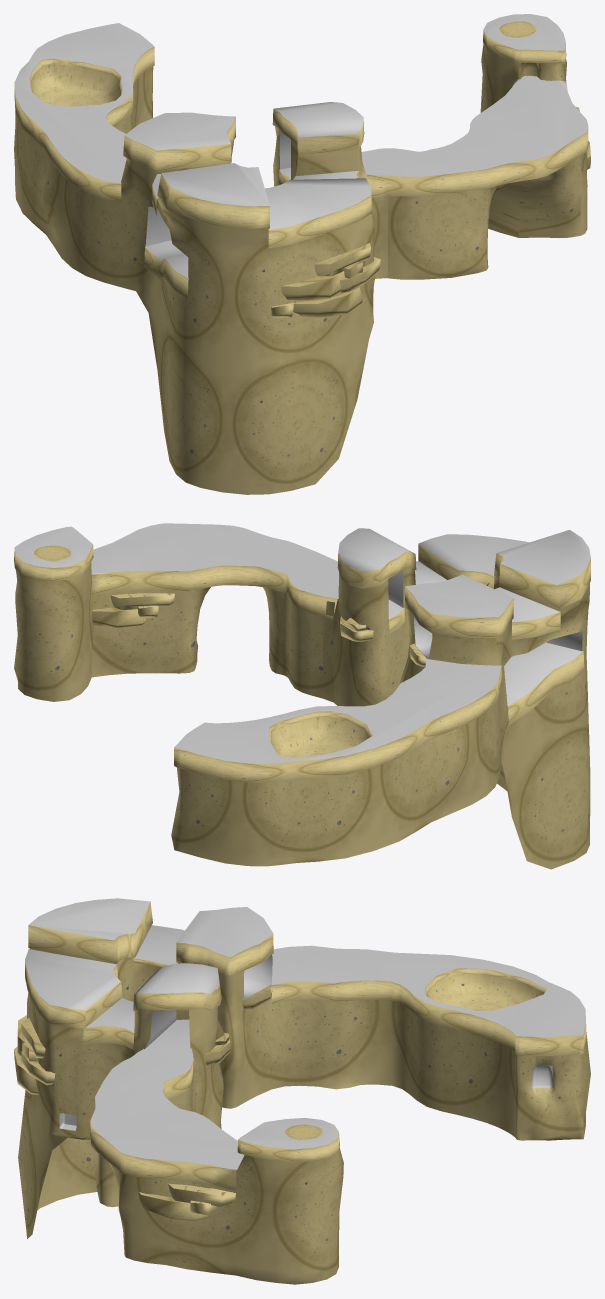
The model's file is horseshoe mesh.fbx.
3 views of the same model, one above another, from view 1: azimuth 30°, elevation 25°; view 2: azimuth 150°, elevation 25°; view 3: azimuth 270°, elevation 25° (orthographic).
Parts seen in each view (by area): view 1: polySurface9; view 2: polySurface9; view 3: polySurface9.
Boxes of the visible parts, <box> form: polySurface9: <box>14,14,590,494</box>; polySurface9: <box>14,523,590,869</box>; polySurface9: <box>14,898,590,1284</box>.
Bounding box in the file's own units: 1.55 × 0.9106 × 1.59.
